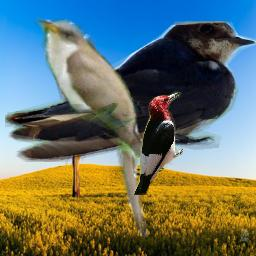Cuckoo: (30, 13, 152, 241)
Swallow: (5, 21, 256, 162)
Woodpecker: (132, 91, 183, 195)
